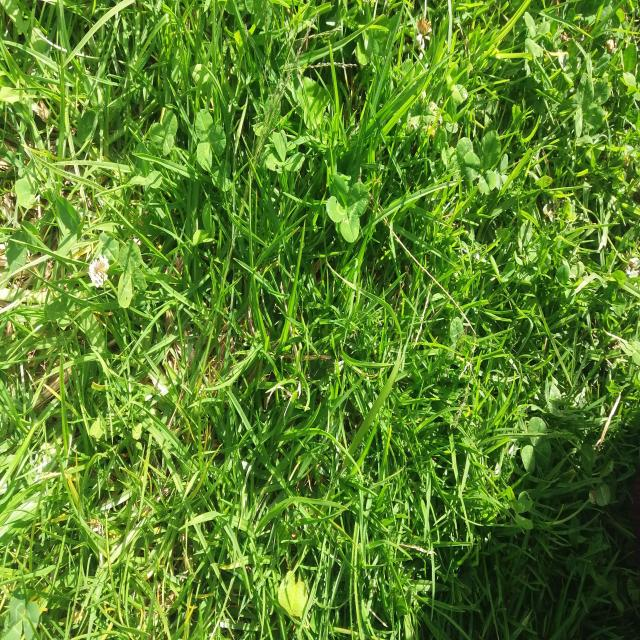Four Leaf Clover: (326, 174, 370, 243)
